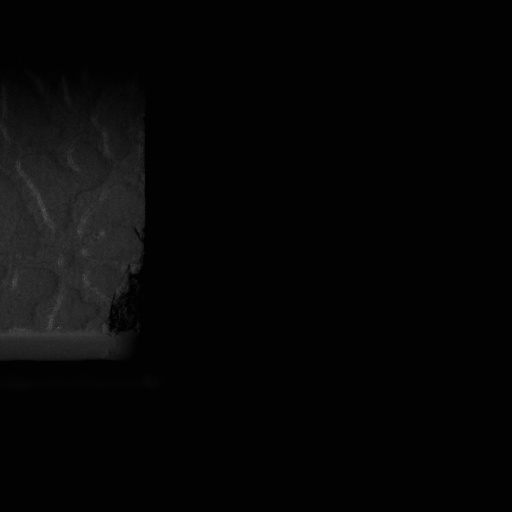bengque: (103, 266, 142, 336)
